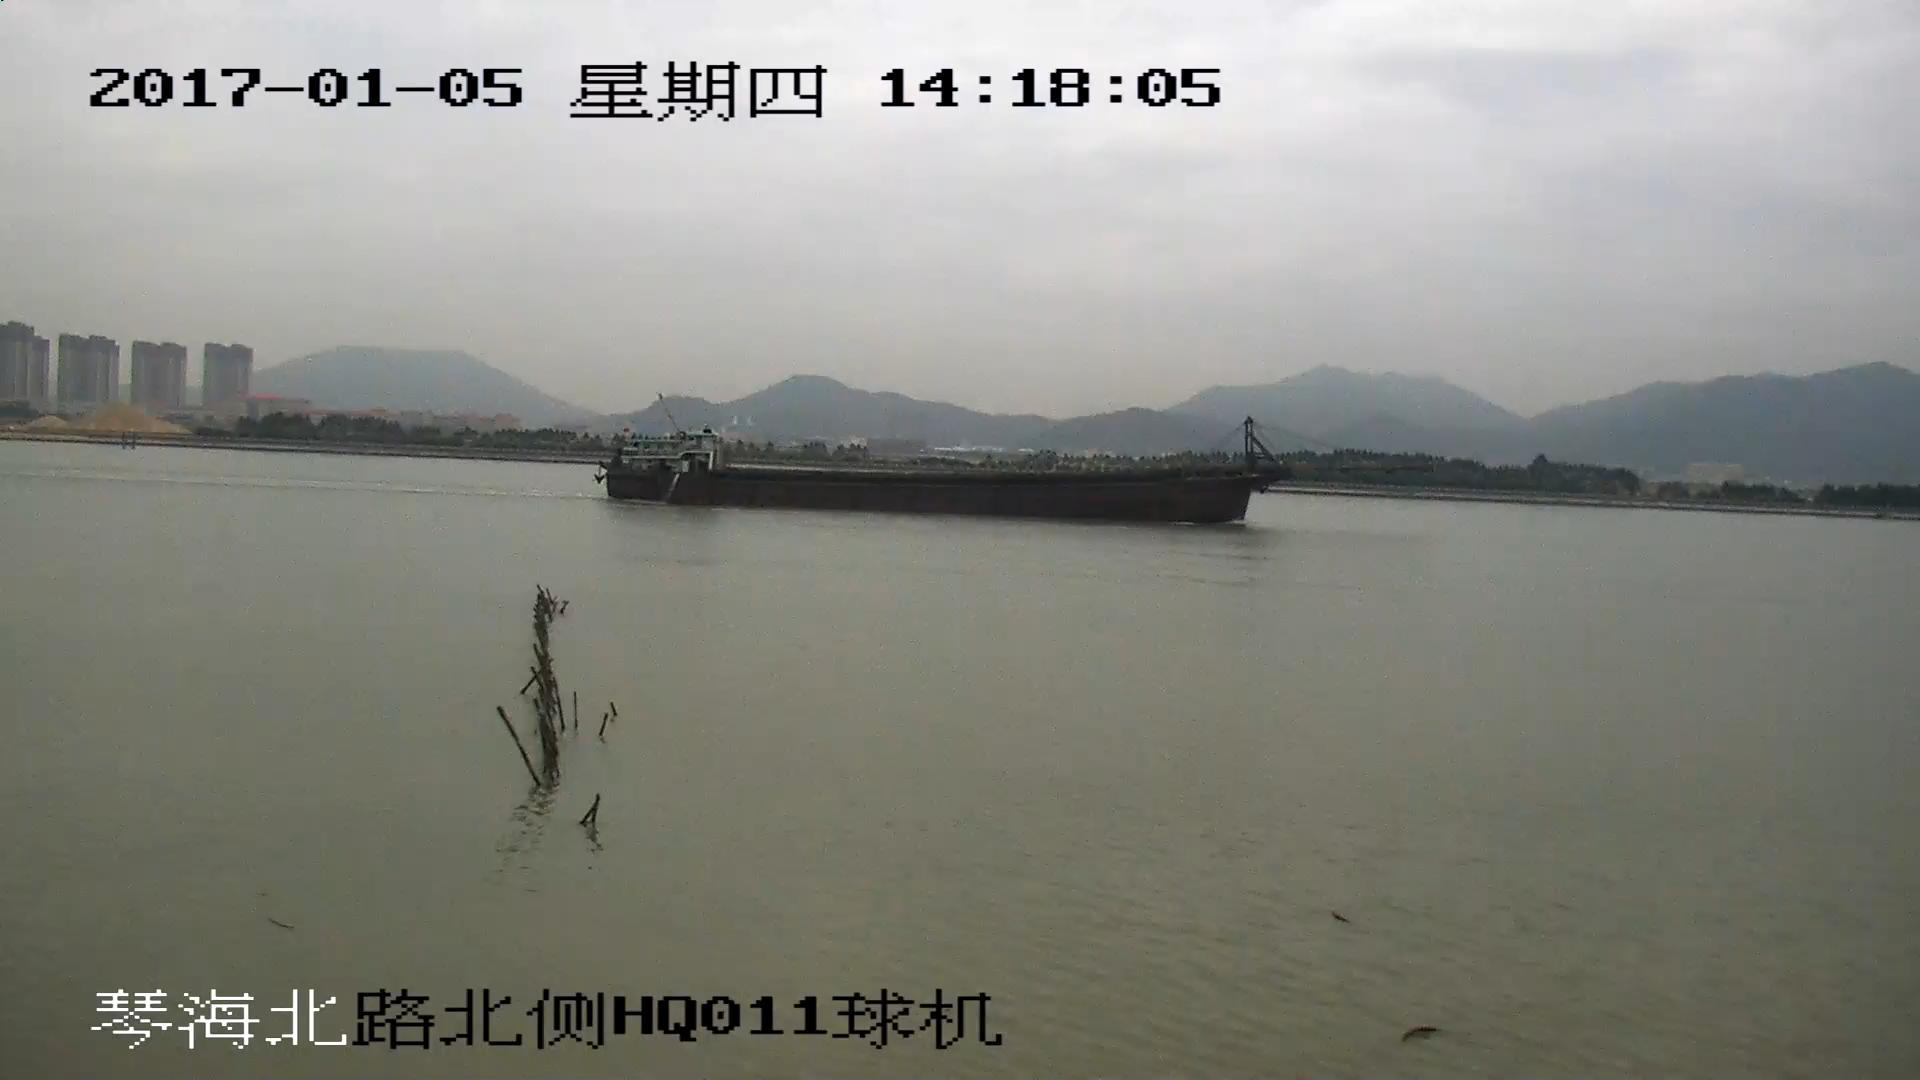Ship: (604, 415, 1394, 522)
